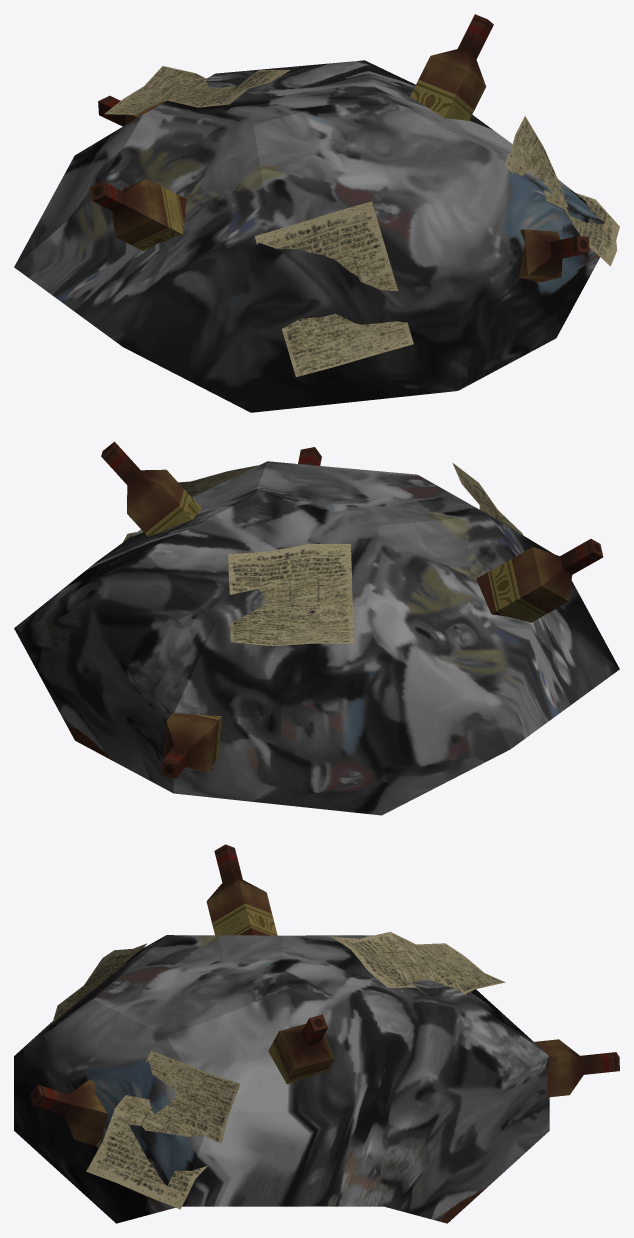
File: trashCOMEPLETEFBX.fbx
3 views of the same model, one above another, from view 1: azimuth 30°, elevation 25°; view 2: azimuth 150°, elevation 25°; view 3: azimuth 270°, elevation 25° (orthographic). The views are drawn at different scales.
Visible parts, largest first — view 1: polySurface1; view 2: polySurface1; view 3: polySurface1.
Part boxes in pixels (left/top/right/bottom): polySurface1: left=14, top=14, right=619, bottom=412; polySurface1: left=14, top=441, right=619, bottom=815; polySurface1: left=14, top=844, right=619, bottom=1223.
Bounding box in the file's own units: 4.75 × 2.13 × 5.27.
Materials: 1 (1 with a texture image).
